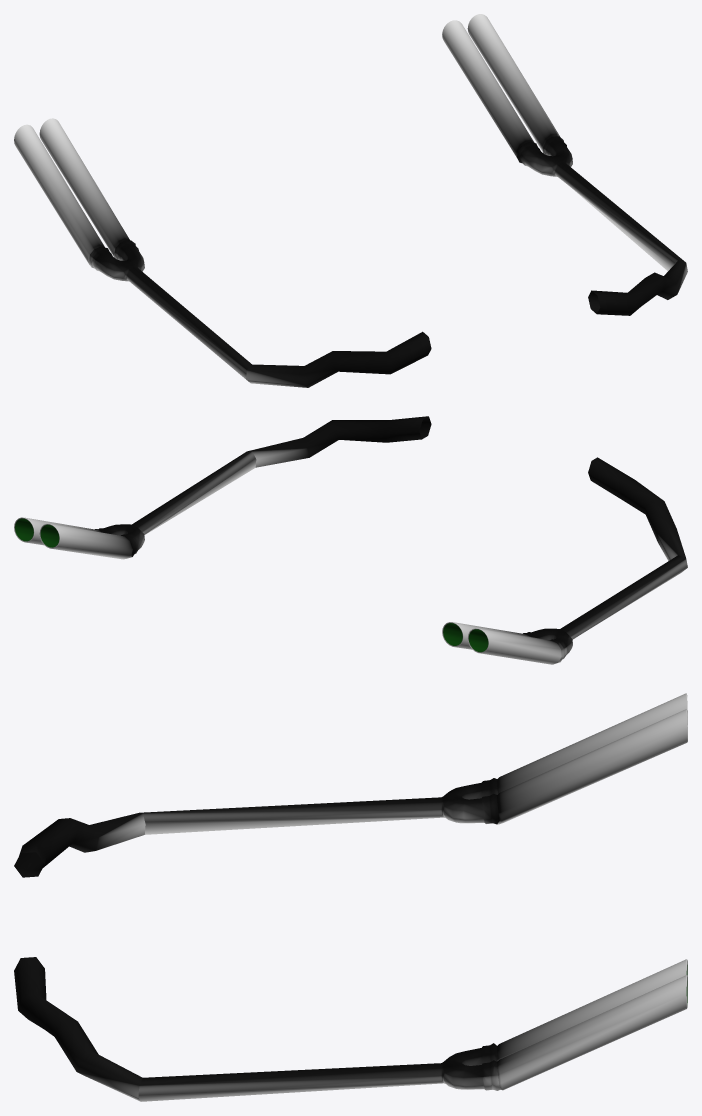
File: Car_Buick_GrandNational_1987_Exhausts_SetFC.fbx
3 renders of one model, top to bottom at view 1: azimuth 30°, elevation 25°; view 2: azimuth 150°, elevation 25°; view 3: azimuth 270°, elevation 25°, orthographic. The views are drawn at different scales.
Visible parts, largest first — view 1: Exhausts 6; view 2: Exhausts 6; view 3: Exhausts 6.
Part boxes in pixels (x1=…): Exhausts 6: x1=14, y1=14, x2=687, y2=387; Exhausts 6: x1=14, y1=416, x2=687, y2=664; Exhausts 6: x1=14, y1=693, x2=687, y2=1101.
Bounding box in the file's own units: 1.47 × 0.3086 × 1.42.
